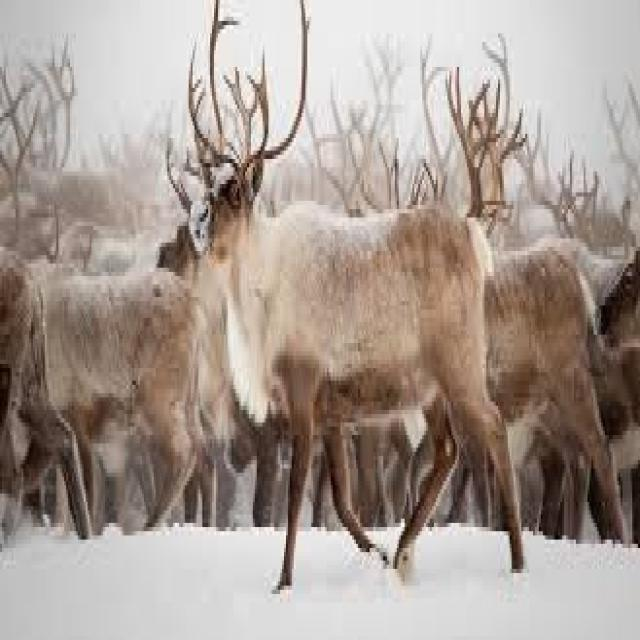Reindeer: (184, 8, 528, 593)
